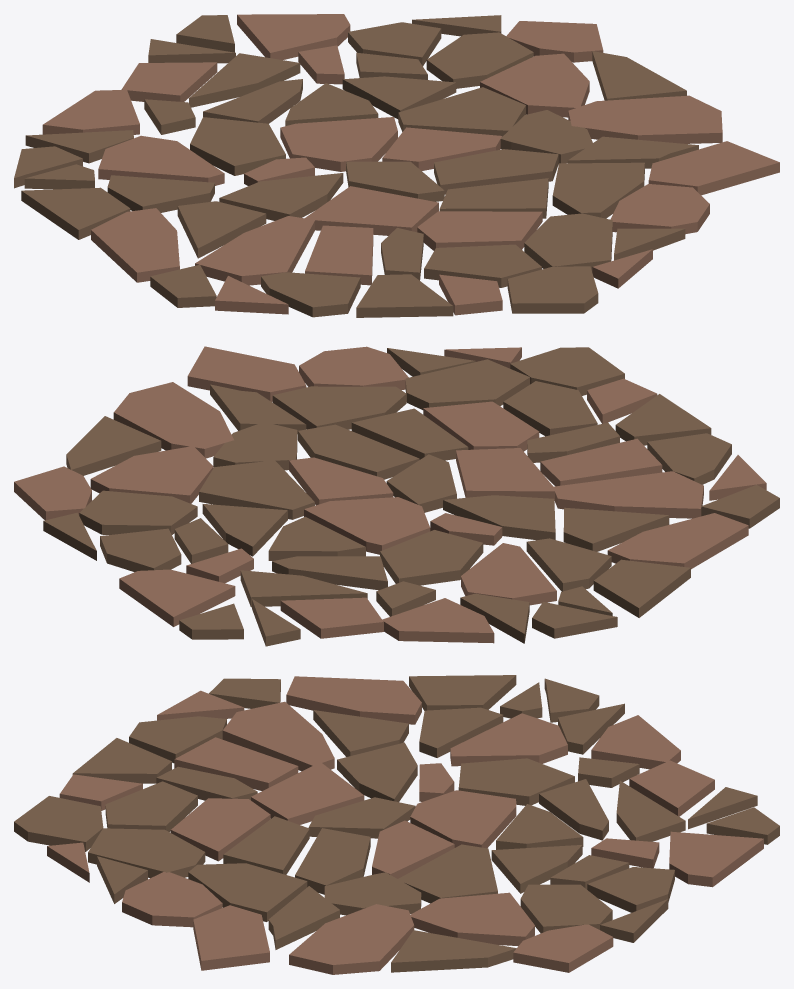
Rendered from dryed_tile_type2.fbx.
The picture shows the model from 3 angles, top to bottom: view 1: azimuth 30°, elevation 25°; view 2: azimuth 150°, elevation 25°; view 3: azimuth 270°, elevation 25°; orthographic projection. The views are drawn at different scales.
Parts seen in each view (by area): view 1: Plane.001; view 2: Plane.001; view 3: Plane.001.
Boxes of the visible parts, x1,y1,x2,y2 form: Plane.001: [14, 14, 779, 317]; Plane.001: [14, 346, 779, 646]; Plane.001: [14, 675, 779, 974].
Bounding box in the file's own units: 2060 × 32.87 × 2299.
